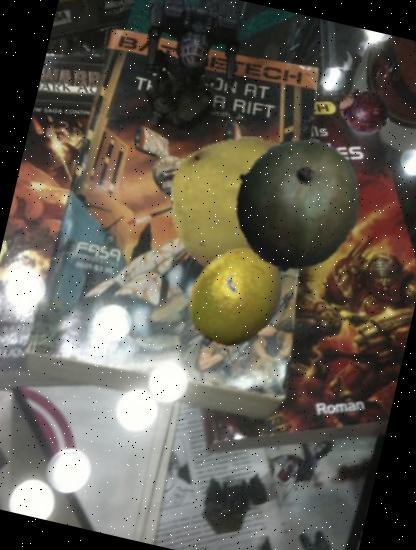Mango: (215, 122, 377, 285)
Mangostan: (328, 76, 394, 142)
Maracuja: (168, 232, 302, 366)
Quince: (156, 121, 328, 294)
